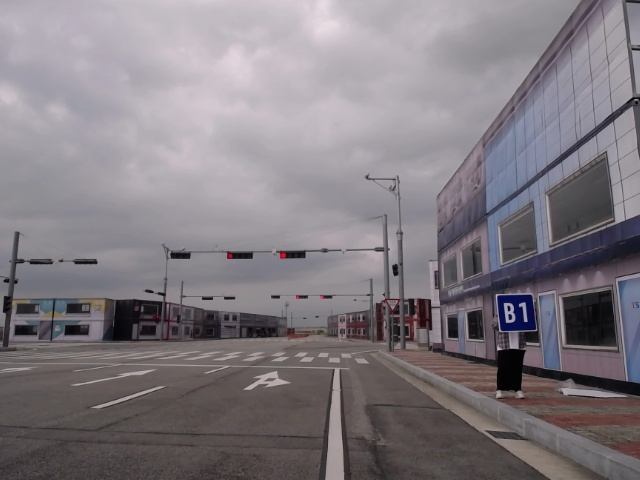delivery_b1: (496, 294, 537, 332)
red_4: (227, 251, 254, 259), (280, 251, 306, 258), (320, 295, 333, 299), (296, 295, 308, 299)
